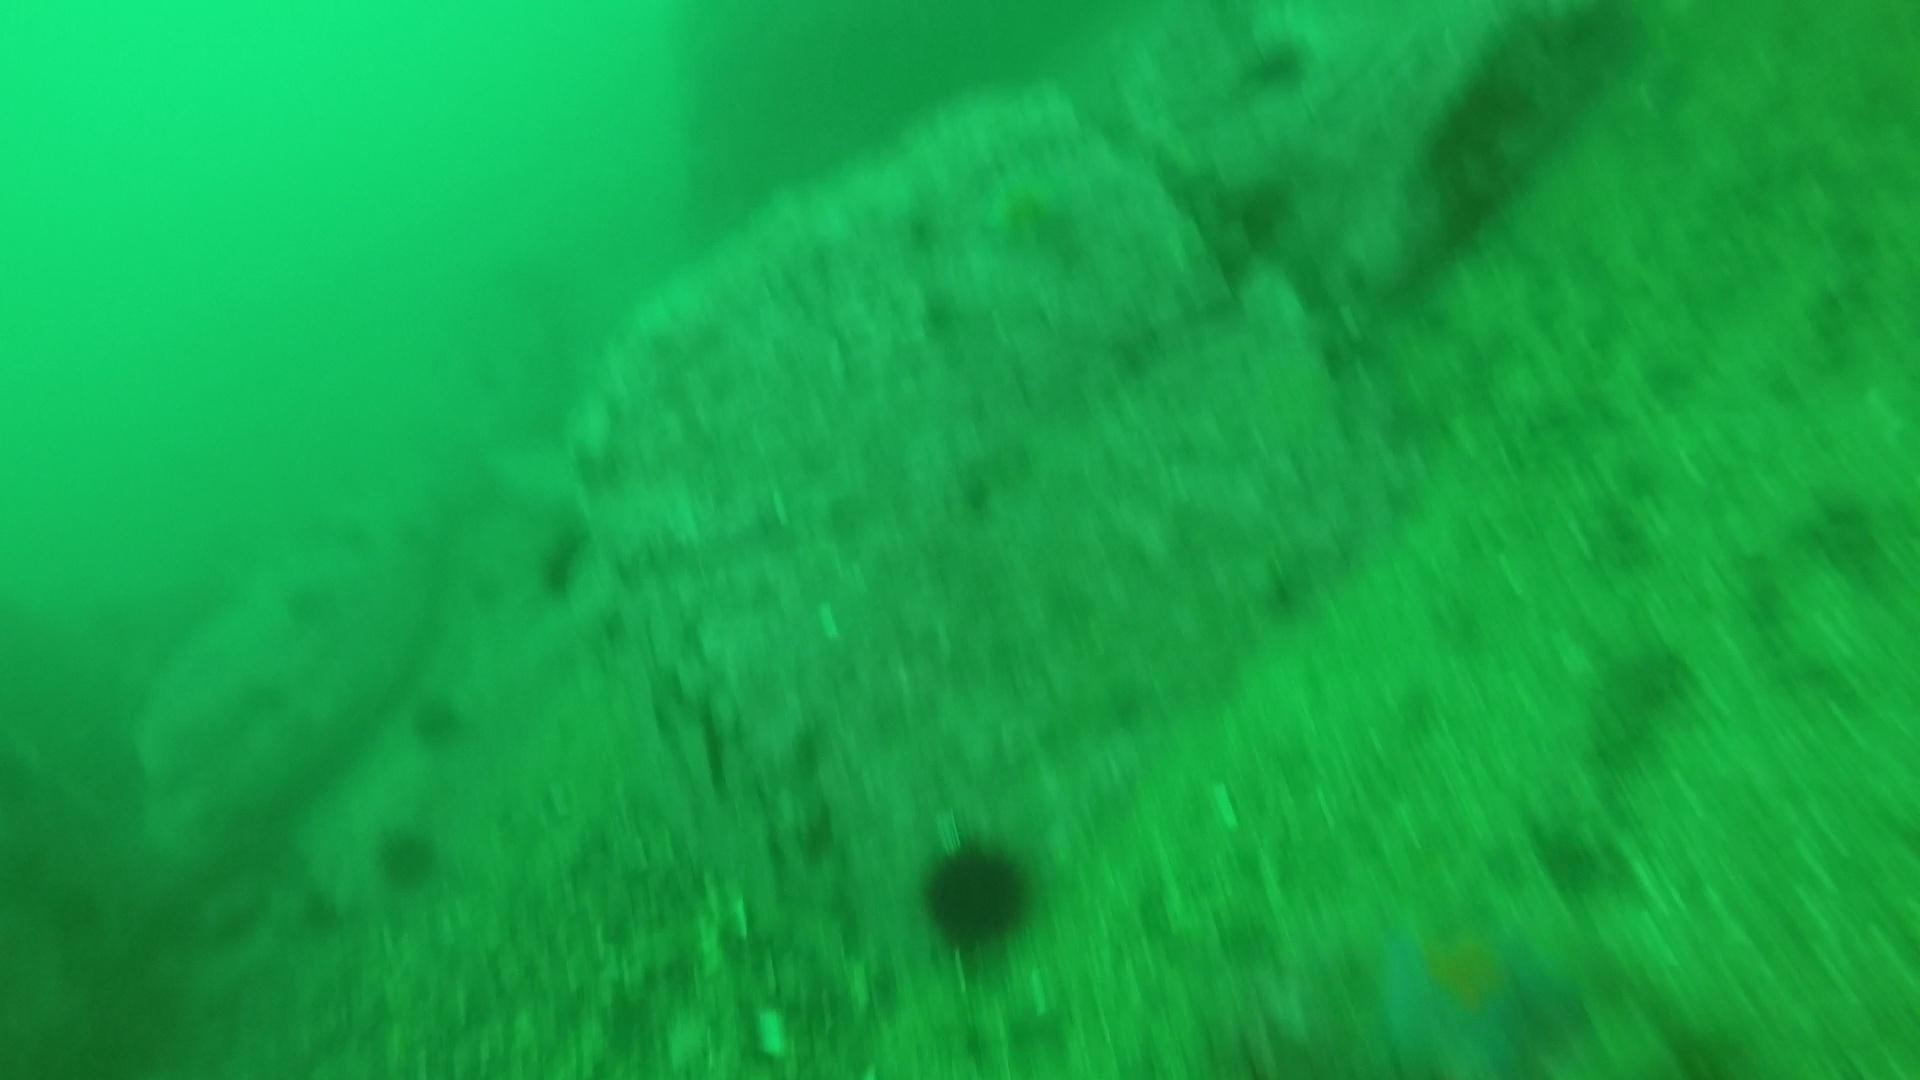echinus: (913, 827, 1043, 956), (371, 819, 446, 891), (1237, 33, 1315, 96), (405, 688, 472, 752)
starfish: (1356, 891, 1573, 1080), (973, 154, 1089, 262)
